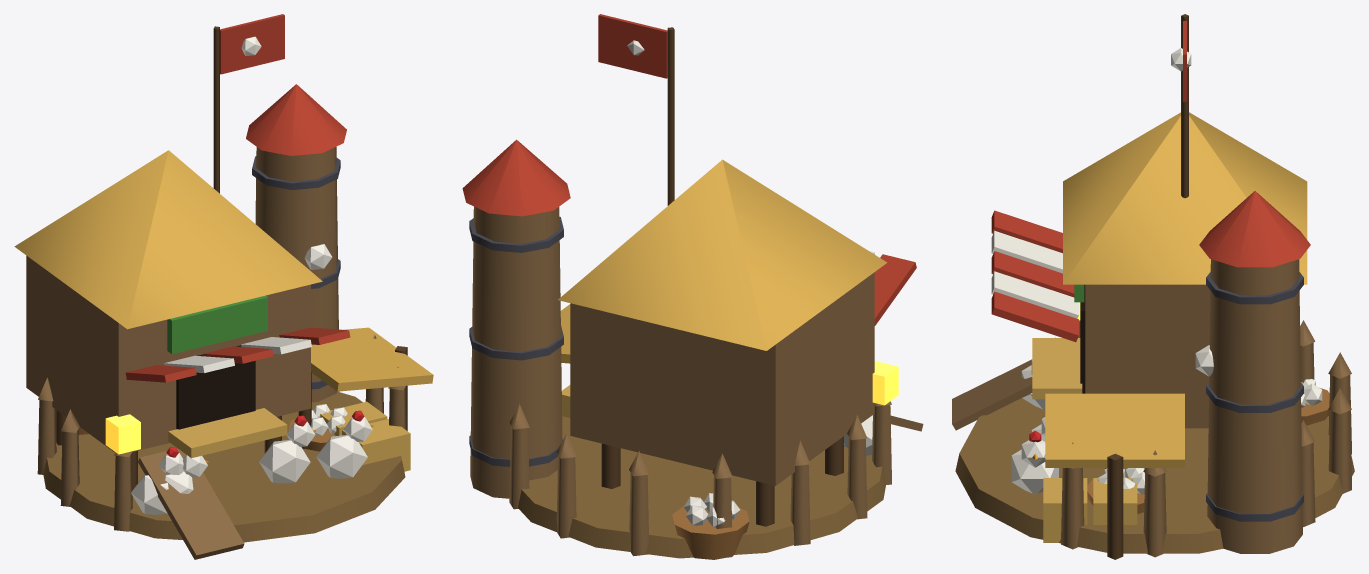
The model's file is level3.glb.
3 renders of one model, left to right at view 1: azimuth 30°, elevation 25°; view 2: azimuth 150°, elevation 25°; view 3: azimuth 270°, elevation 25°, orthographic. The views are drawn at different scales.
Bounding box in the file's own units: 2.3 × 2.85 × 2.26.
